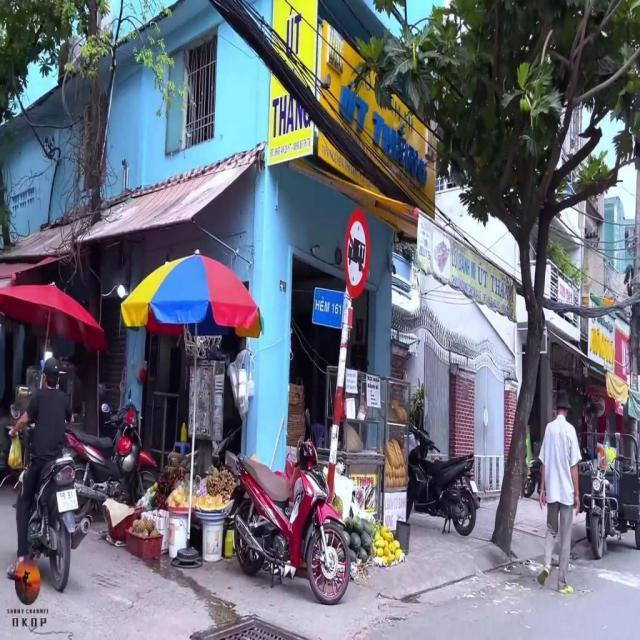106-cam-oto-tai: (344, 209, 372, 299)
